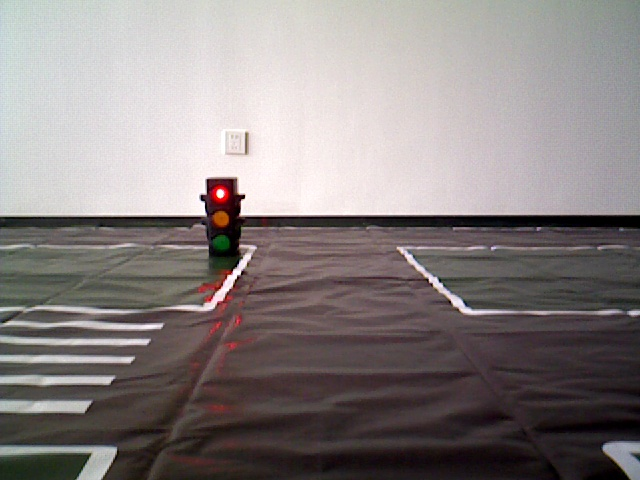red: (205, 179, 233, 258)
